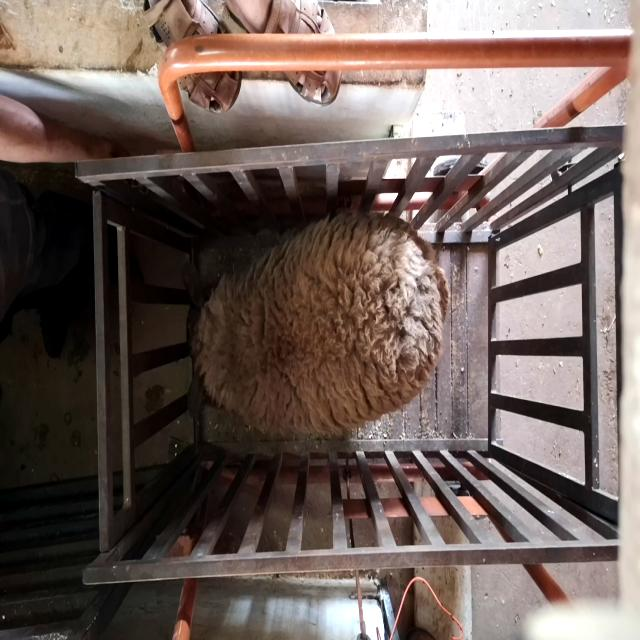sheep: (182, 212, 450, 437)
